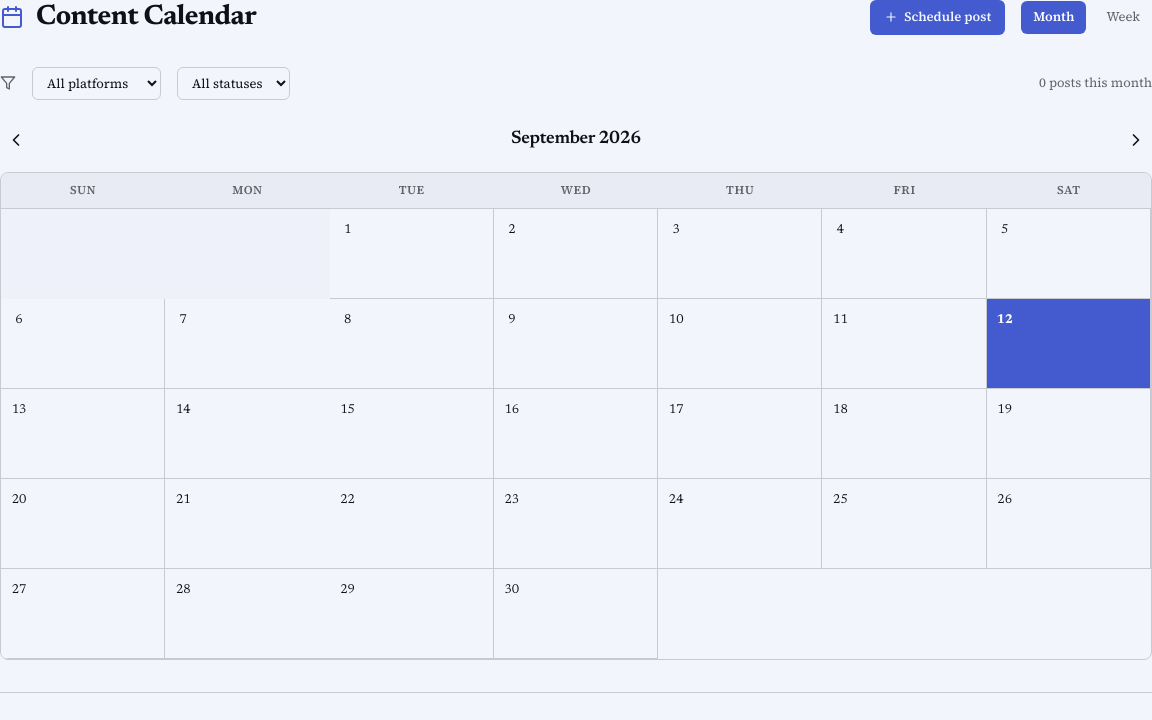
Test: CalendarPage › guides the user when there is no ready content to schedule
Click the button "Schedule post": click(938, 17) 870,0 -> 1005,35
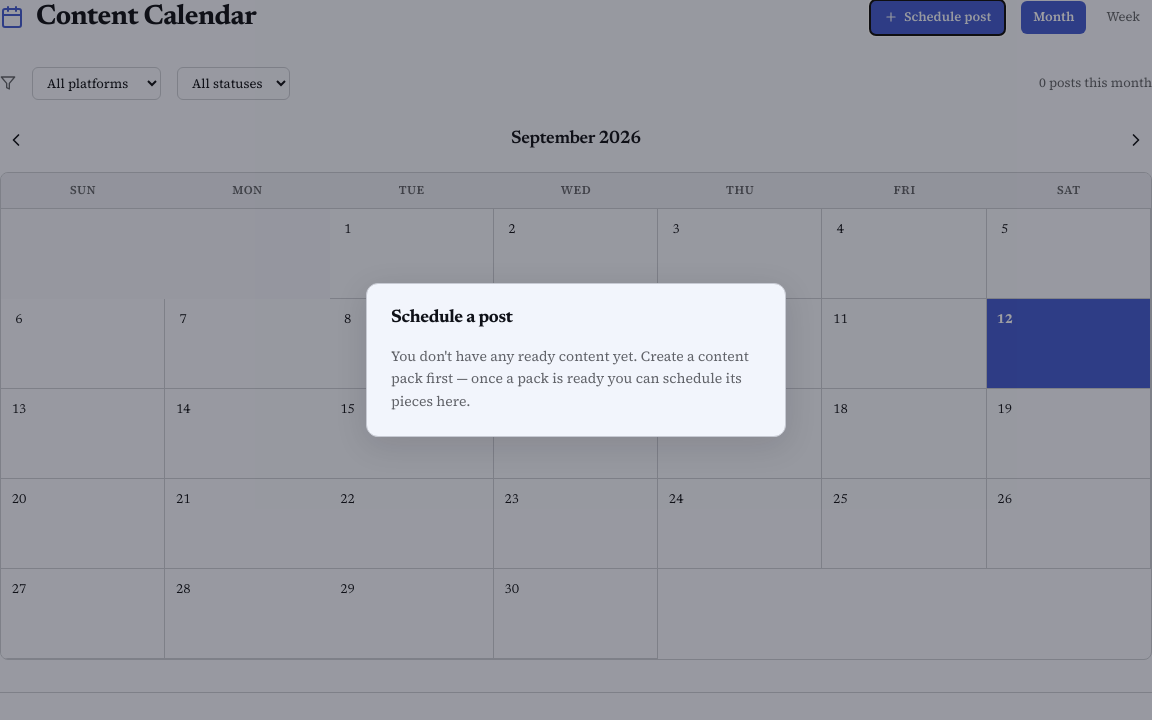
expect the heading "Schedule a post" is shown: met, box 391,309 -> 513,327
expect the text "don't have any ready content yet" is shown: met, box 391,346 -> 749,411
